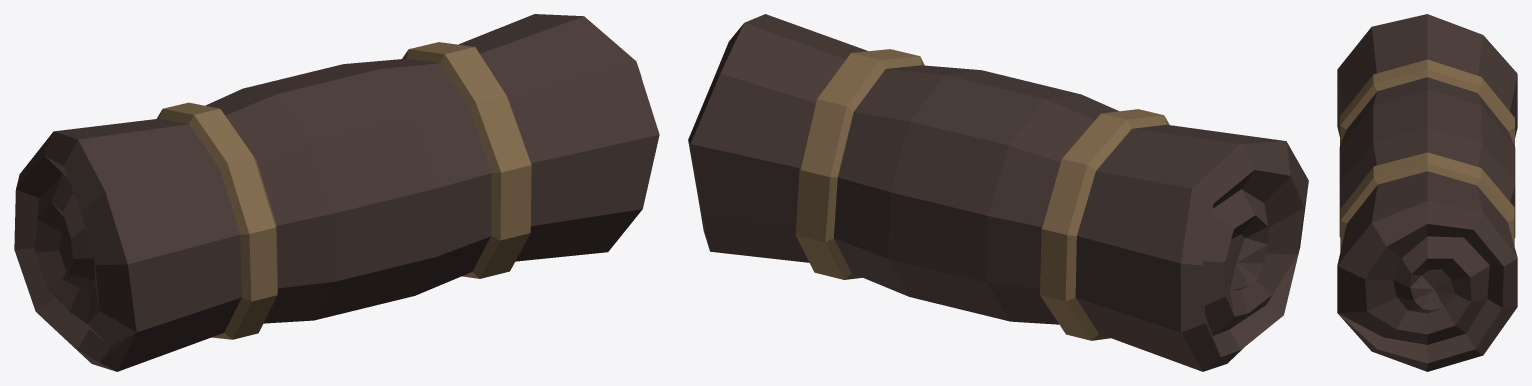
File: SM_Item_Roll_Attachment_01.glb
The picture shows the model from 3 angles, left to right: view 1: azimuth 30°, elevation 25°; view 2: azimuth 150°, elevation 25°; view 3: azimuth 270°, elevation 25°; orthographic projection. The views are drawn at different scales.
Visible parts, largest first — view 1: SM_Item_Roll_Attachment_01; view 2: SM_Item_Roll_Attachment_01; view 3: SM_Item_Roll_Attachment_01.
Part boxes in pixels (x1,y1,x2,y2): SM_Item_Roll_Attachment_01: (14,14,659,371); SM_Item_Roll_Attachment_01: (688,14,1308,371); SM_Item_Roll_Attachment_01: (1337,14,1517,371).
Size of the model in its own units: 0.00501 by 0.00194 by 0.00185.
